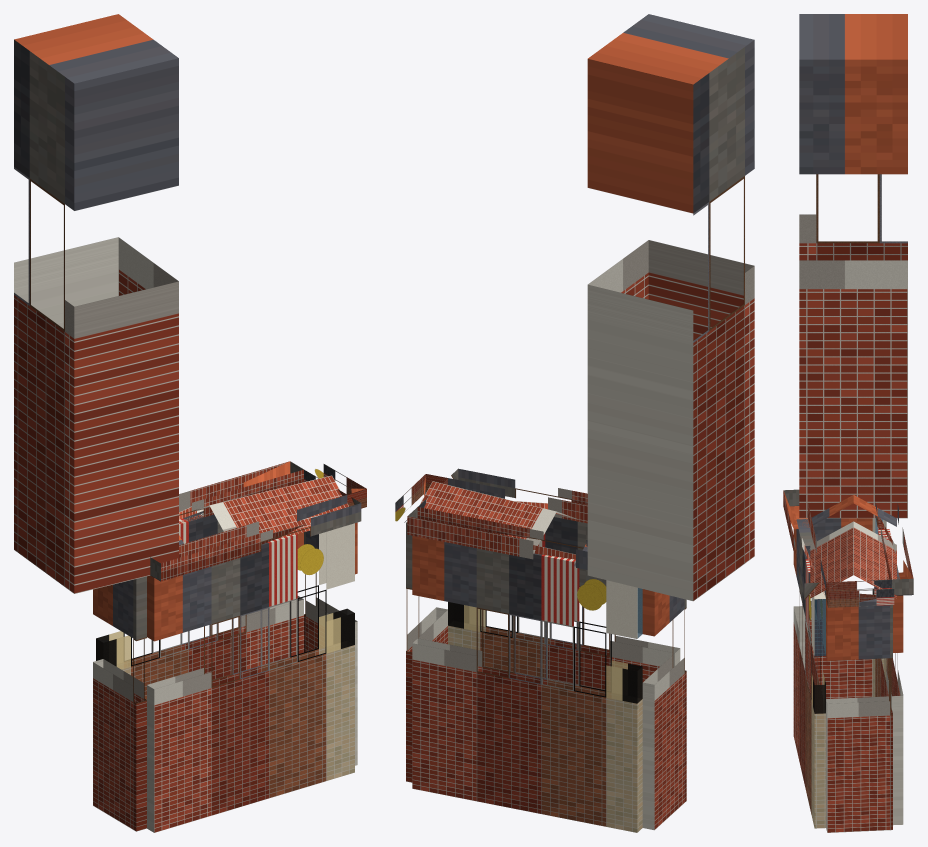
The picture shows the model from 3 angles, left to right: view 1: azimuth 30°, elevation 25°; view 2: azimuth 150°, elevation 25°; view 3: azimuth 270°, elevation 25°; orthographic projection. The views are drawn at different scales.
Visible parts, largest first — view 1: 1106967111__chimney_0_xb, 1106967111__wall_2_xb, 1106967111__wall_3_xb, 1106967111__wall_0_xb, 1106967111__cornice_2, 1106967111_roof_-1_xb, 1106967111__cornice_0, 1106967111__wall_1_xb, 1106967111__wall_2_xf, 1106967111__wall_0_xf, 1106967111__cornice_1; view 2: 1106967111__chimney_0_xb, 1106967111__wall_0_xb, 1106967111__wall_2_xb, 1106967111__wall_3_xb, 1106967111__cornice_0, 1106967111_roof_1_xb, 1106967111__cornice_2, 1106967111__wall_1_xb, 1106967111__wall_0_xf, 1106967111__wall_2_xf, 1106967111__cornice_1; view 3: 1106967111__chimney_0_xb, 1106967111__wall_1_xb, 1106967111__wall_2_xb, 1106967111__wall_0_xb, 1106967111__wall_3_xb, 1106967111_roof_-1_xb, 1106967111_roof_1_xb, 1106967111__cornice_1, 1106967111__cornice_2, 1106967111__wall_2_xf, 1106967111__cornice_0.
Part boxes in pixels (box(x1,y1,x2,y2)): 1106967111__chimney_0_xb: box(14, 14, 178, 593); 1106967111__wall_2_xb: box(147, 523, 354, 832); 1106967111__wall_3_xb: box(93, 576, 146, 831); 1106967111__wall_0_xb: box(96, 511, 303, 699); 1106967111__cornice_2: box(150, 495, 361, 581); 1106967111_roof_-1_xb: box(179, 475, 348, 545); 1106967111__cornice_0: box(179, 461, 303, 523); 1106967111__wall_1_xb: box(304, 522, 357, 765); 1106967111__wall_2_xf: box(319, 609, 354, 652); 1106967111__wall_0_xf: box(96, 631, 130, 668); 1106967111__cornice_1: box(304, 464, 366, 508); 1106967111__chimney_0_xb: box(587, 14, 754, 601); 1106967111__wall_0_xb: box(412, 535, 642, 832); 1106967111__wall_2_xb: box(448, 517, 680, 690); 1106967111__wall_3_xb: box(642, 589, 686, 830); 1106967111__cornice_0: box(407, 507, 587, 569); 1106967111_roof_1_xb: box(420, 481, 587, 566); 1106967111__cornice_2: box(448, 468, 587, 523); 1106967111__wall_1_xb: box(406, 522, 447, 782); 1106967111__wall_0_xf: box(606, 588, 642, 702); 1106967111__wall_2_xf: box(448, 602, 485, 631); 1106967111__cornice_1: box(395, 474, 447, 522); 1106967111__chimney_0_xb: box(799, 14, 907, 518); 1106967111__wall_1_xb: box(826, 599, 892, 832); 1106967111__wall_2_xb: box(793, 506, 825, 828); 1106967111__wall_0_xb: box(872, 518, 903, 825); 1106967111__wall_3_xb: box(808, 518, 872, 698); 1106967111_roof_-1_xb: box(810, 495, 853, 598); 1106967111_roof_1_xb: box(853, 495, 896, 598); 1106967111__cornice_1: box(826, 579, 894, 607); 1106967111__cornice_2: box(783, 489, 825, 599); 1106967111__wall_2_xf: box(809, 595, 825, 713); 1106967111__cornice_0: box(875, 502, 913, 595).
Size of the model in its own units: 0.4429 by 1.05 by 0.18.
1 material, 1 textured.
